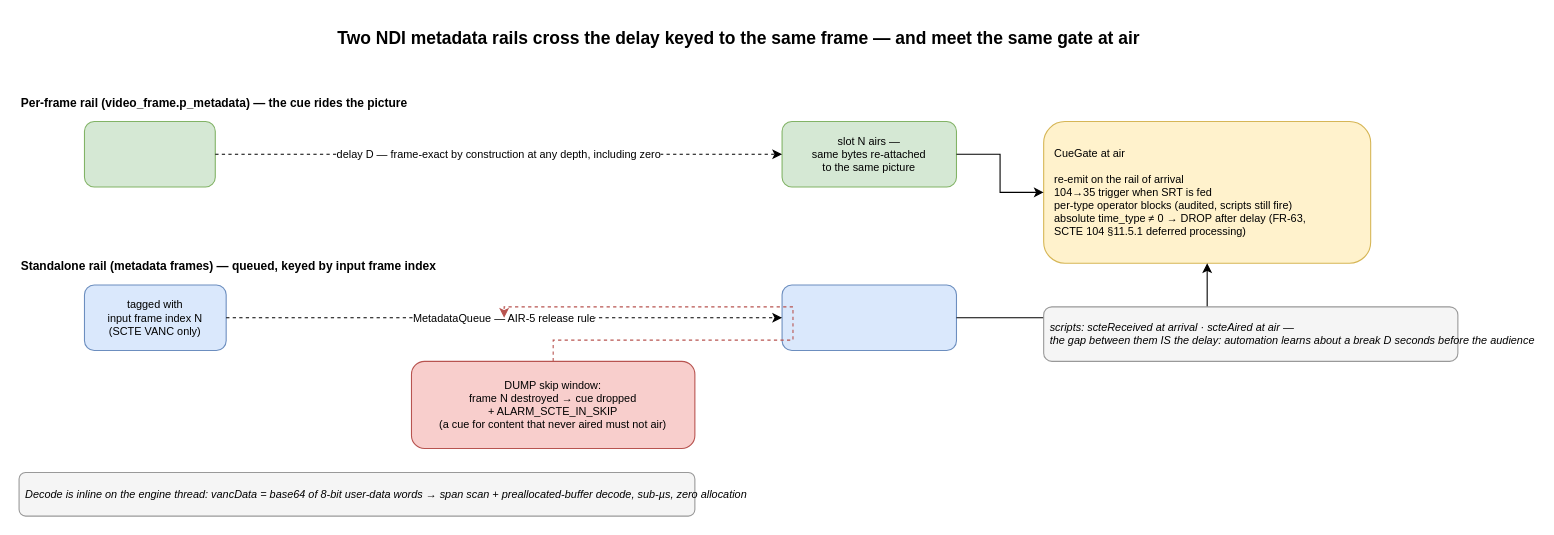
This 1554x535 diagram has some shape labels left out. The box of each missing label's shape, as (x1, y1, x2, y2) in pixels:
released when frame N airs (send_send_metadata): (781, 284, 956, 350)
stored INTO slot N (4 KB region): (83, 120, 215, 187)
